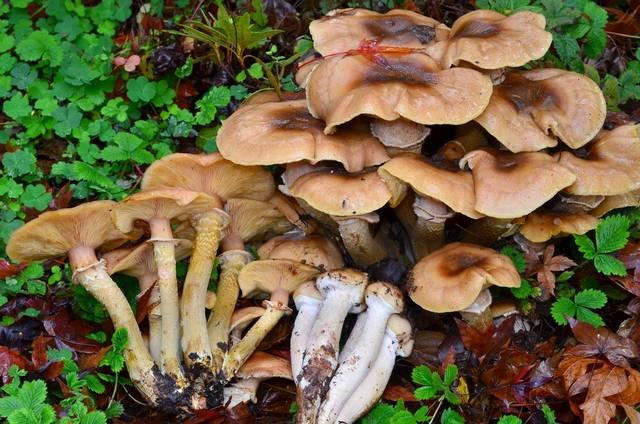Edible Mushroom: (5, 5, 637, 422)
